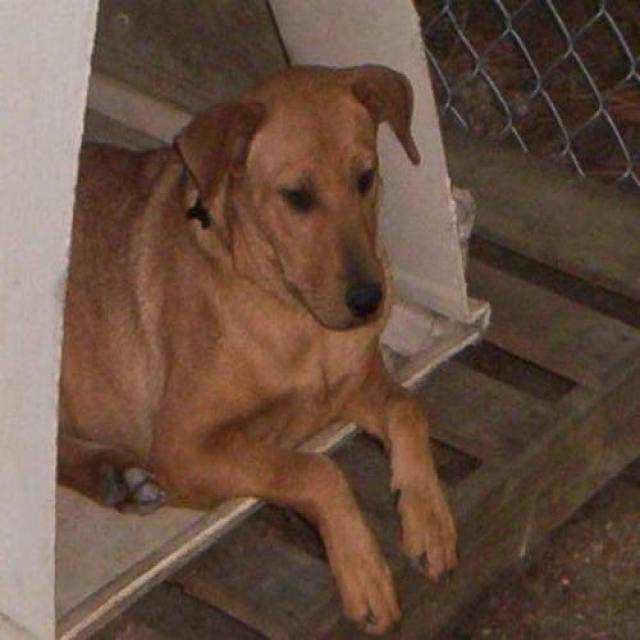dogs: (59, 64, 460, 636)
